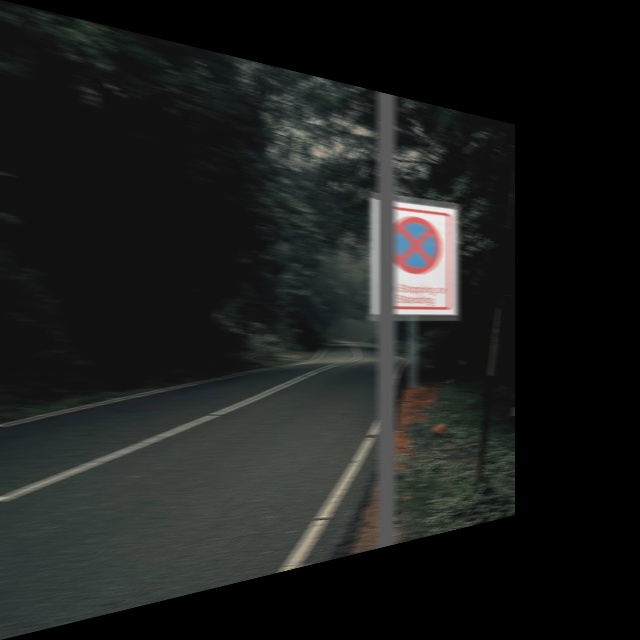No_Stopping_or_Standing: (383, 208, 446, 282)
